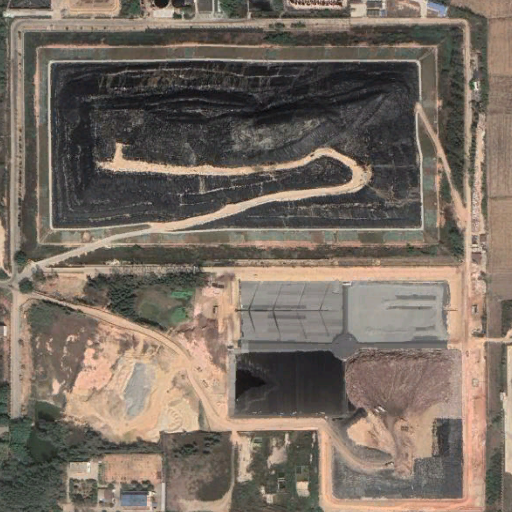lf: (47, 60, 422, 228), (231, 279, 464, 498)
